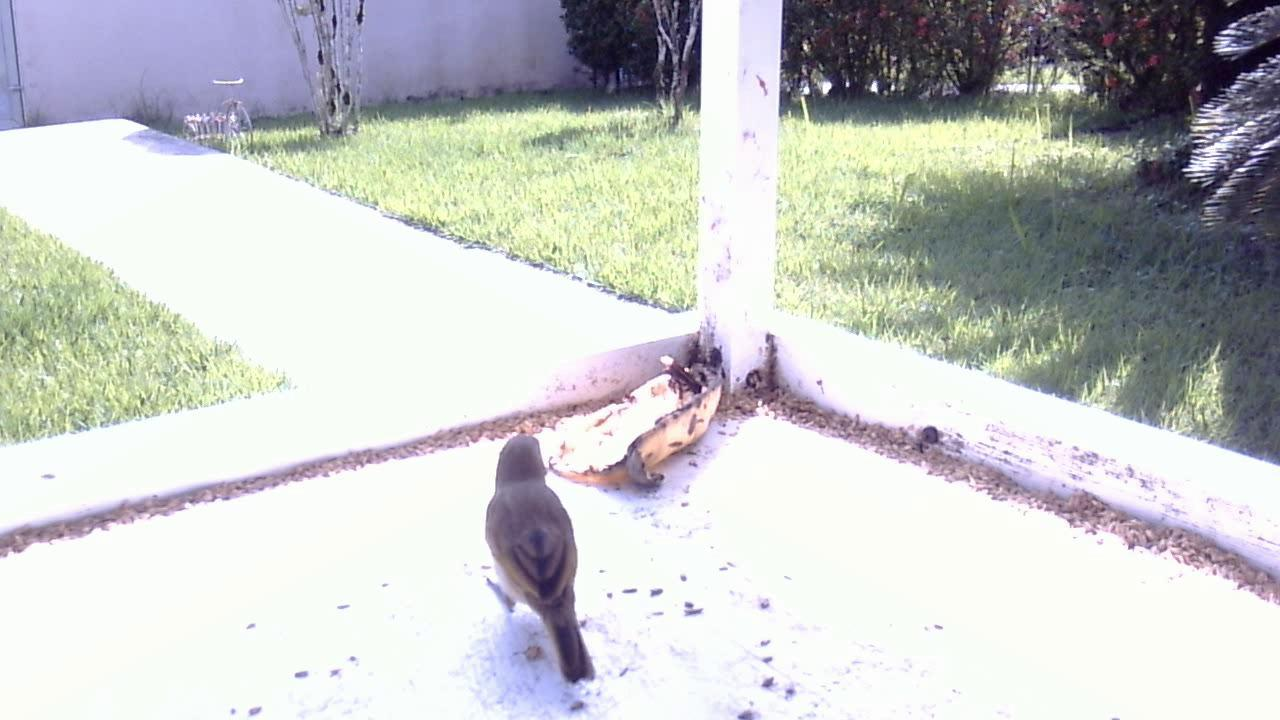canario_do_amazonas: (468, 425, 603, 690)
